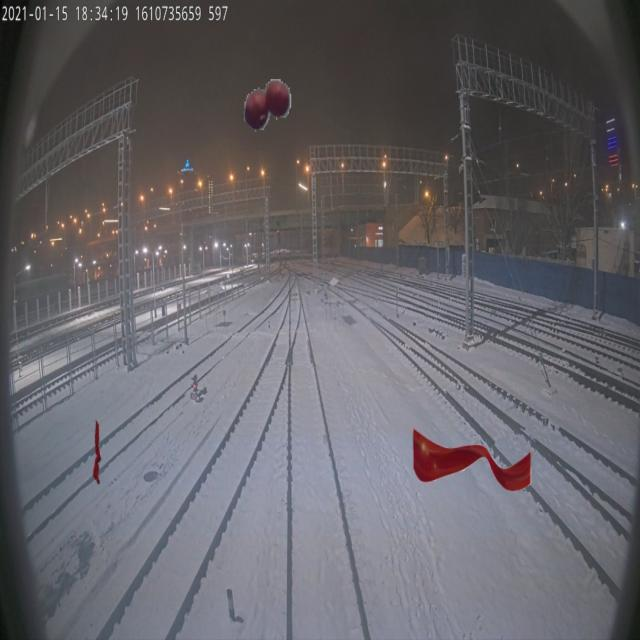balloon: (242, 70, 292, 134)
floating object: (411, 428, 533, 492), (92, 420, 102, 484)
